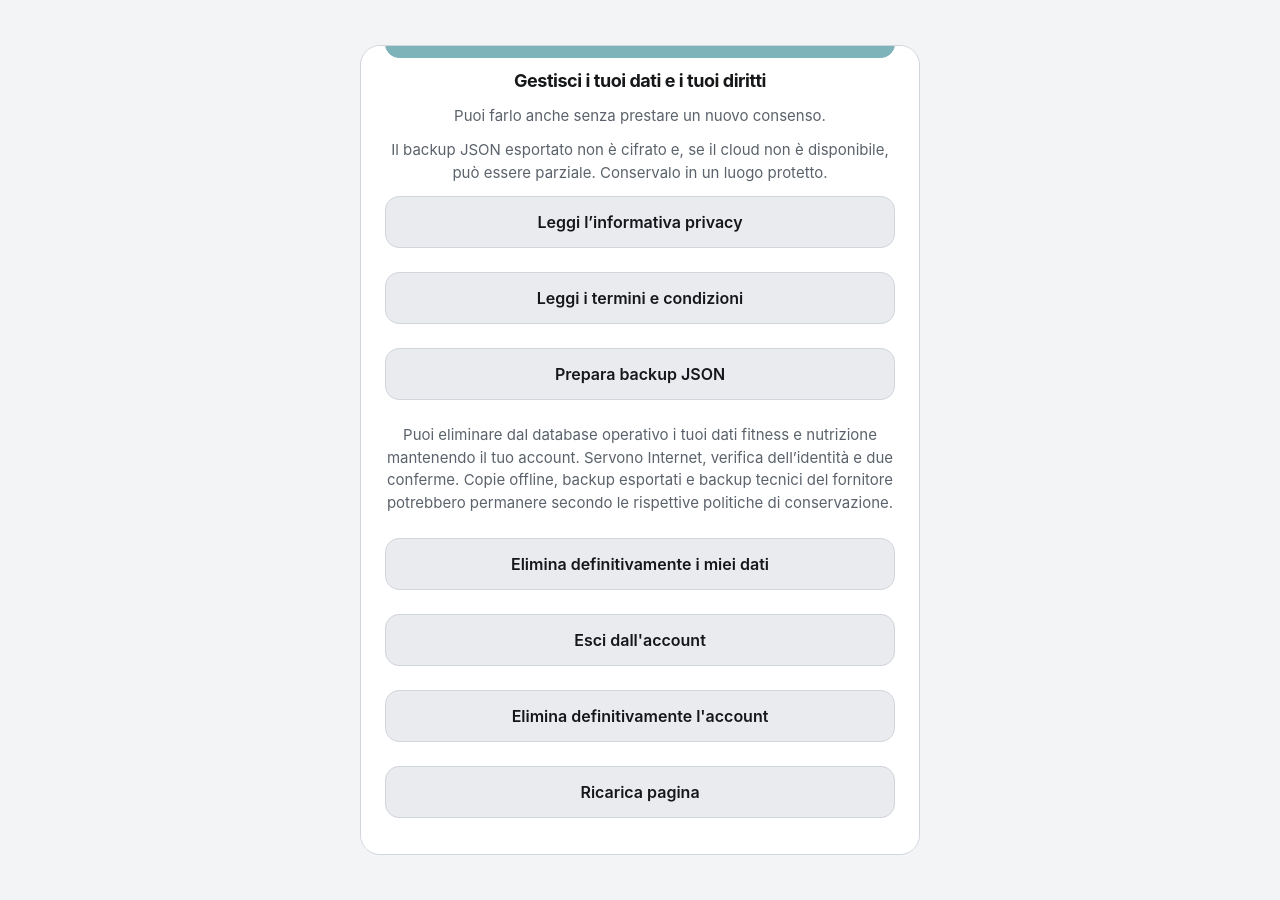
Test: suspended health-consent screen › allows data-only erasure only after verified account withdrawal, not offline or for guests
The width and height of the screenshot is (1280, 900).
(page scrolled)
Click the button "Elimina definitivamente i miei dati".
click(640, 564)  # box [385,538,895,590]
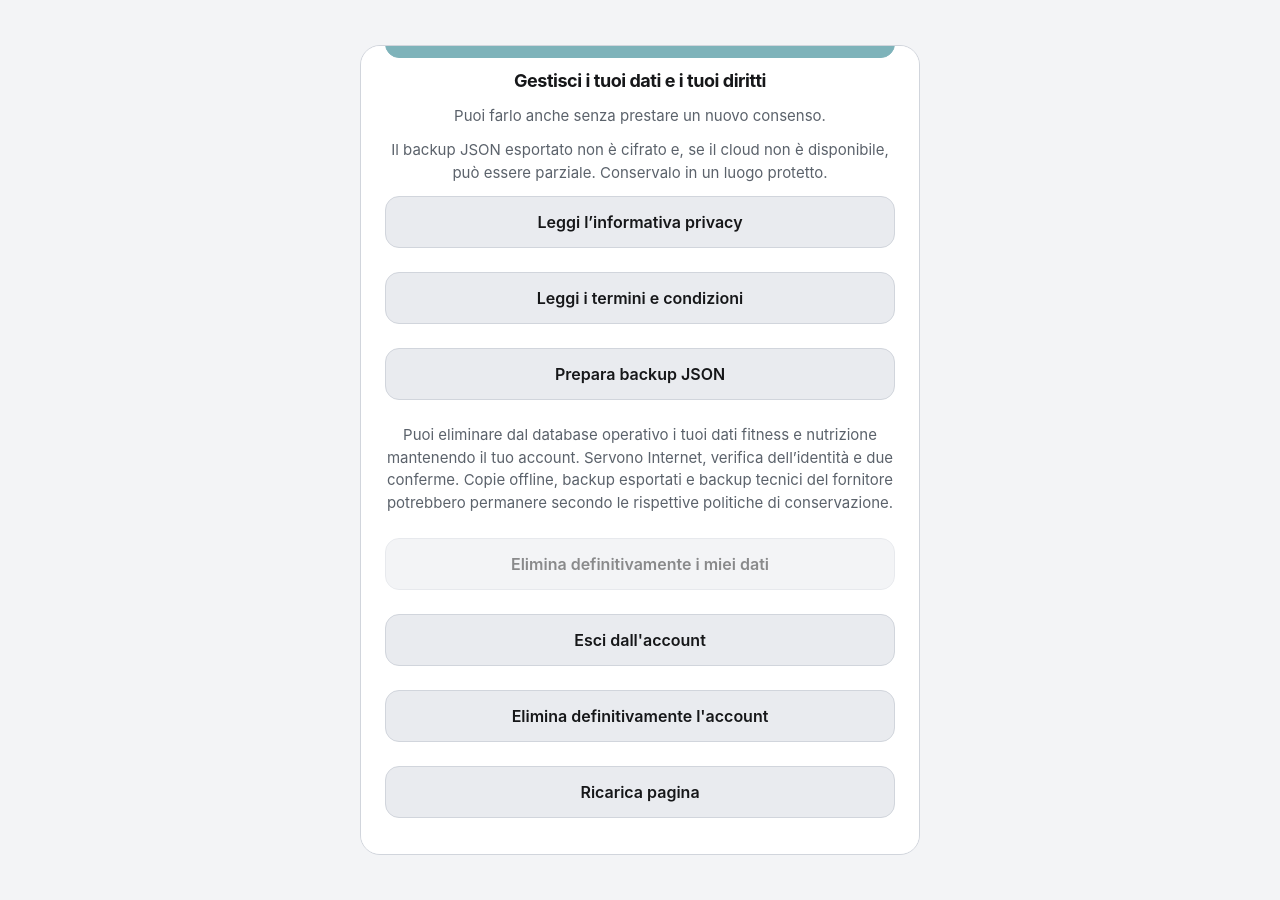
Expected: the button "Elimina definitivamente i miei dati" is disabled, [385,538,895,590]
